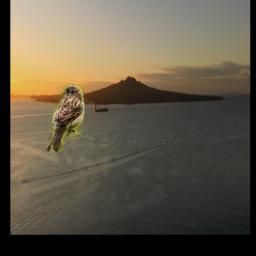Sparrow: (47, 84, 84, 152)
